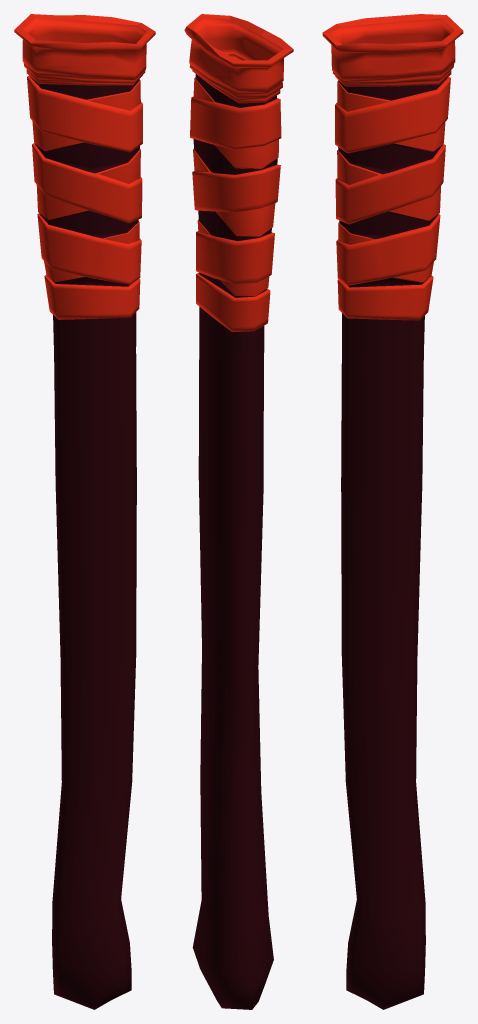
File: AxeBody.fbx
The picture shows the model from 3 angles, left to right: view 1: azimuth 90°, elevation 25°; view 2: azimuth 210°, elevation 25°; view 3: azimuth 270°, elevation 25°; orthographic projection.
Visible parts, largest first — view 1: wood.004; view 2: wood.004; view 3: wood.004.
Part boxes in pixels (box(x1,y1,x2,y2)): wood.004: box(14, 14, 155, 1009); wood.004: box(184, 14, 293, 1009); wood.004: box(322, 14, 463, 1009).
Size of the model in its own units: 27.73 by 418 by 54.61.
